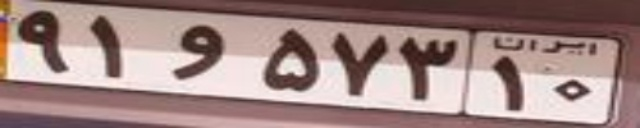0: (549, 77, 593, 102)
1: (87, 13, 124, 79), (489, 53, 527, 110)
3: (396, 35, 458, 101)
5: (259, 27, 321, 93)
7: (329, 31, 390, 97)
9: (17, 8, 70, 74)
vav: (167, 23, 229, 81)
